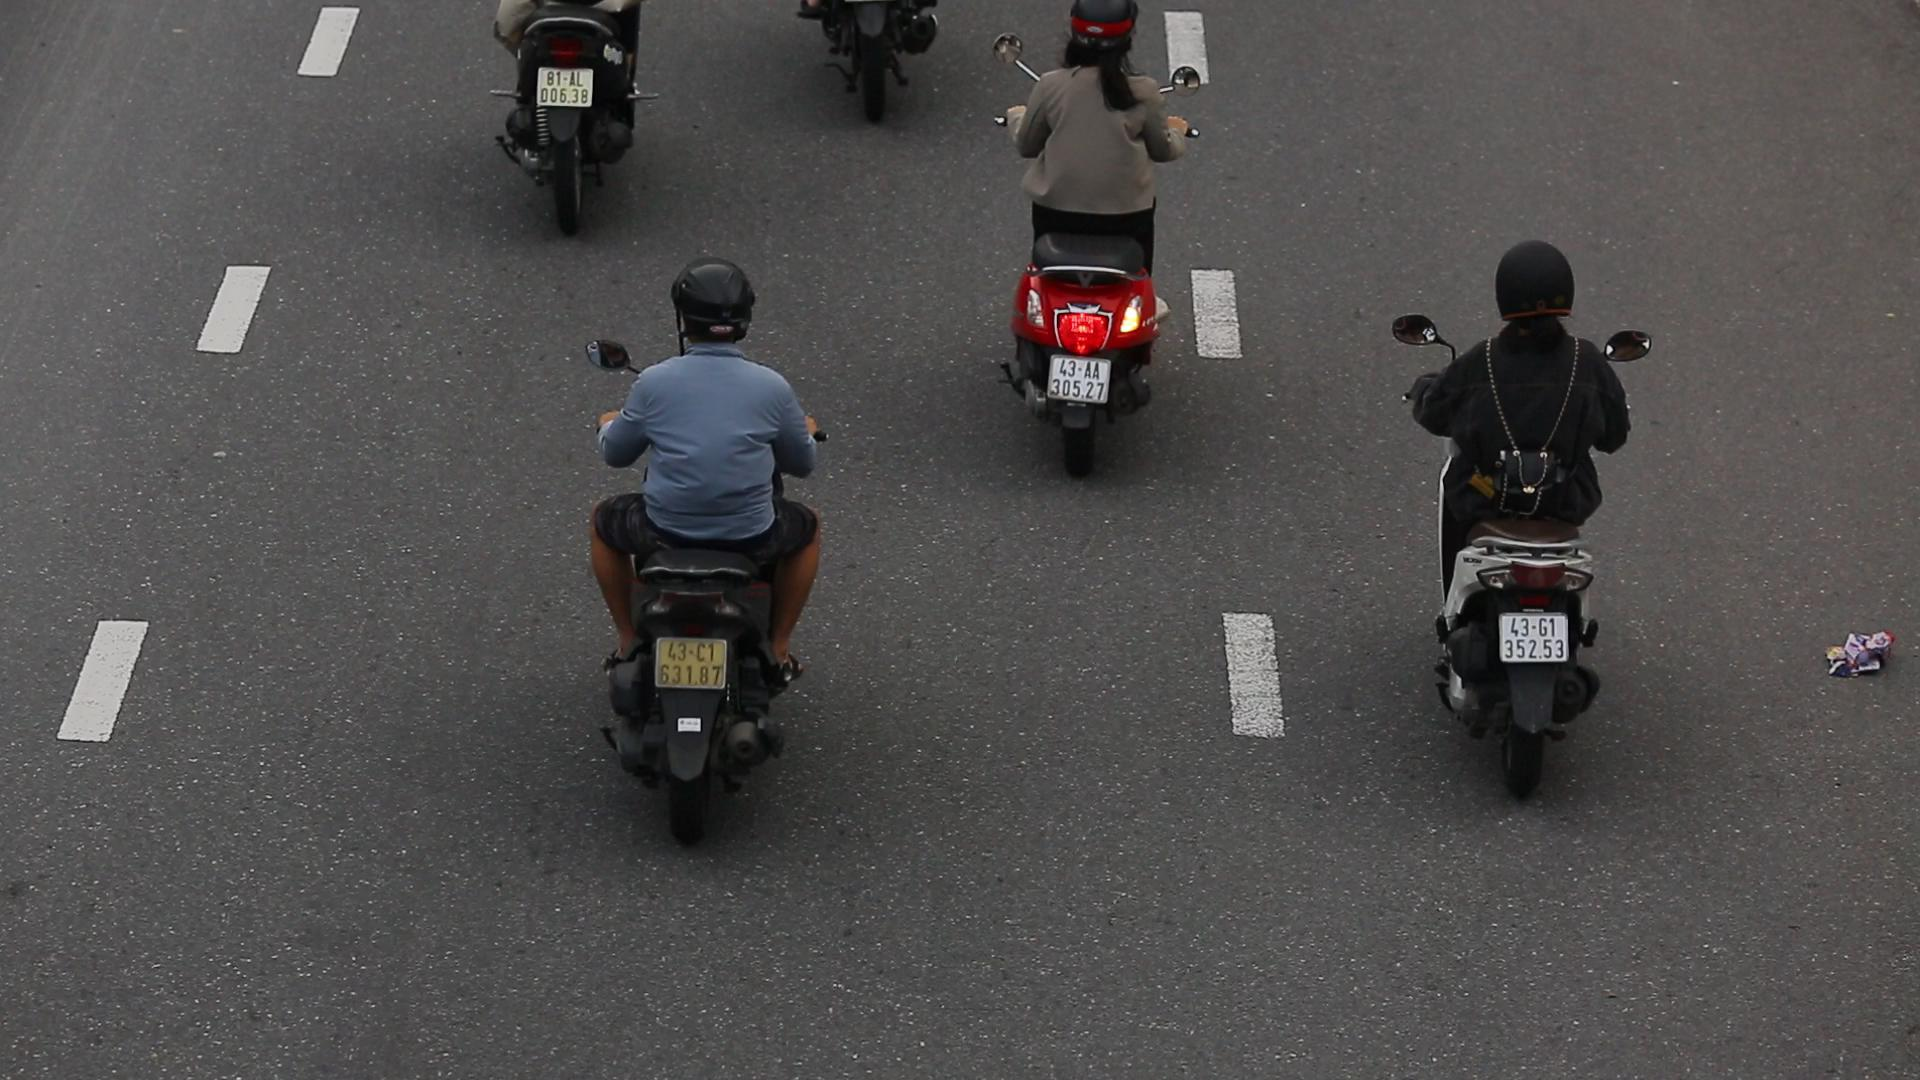motobike: (560, 255, 855, 887), (1389, 214, 1668, 819), (969, 0, 1225, 485)
